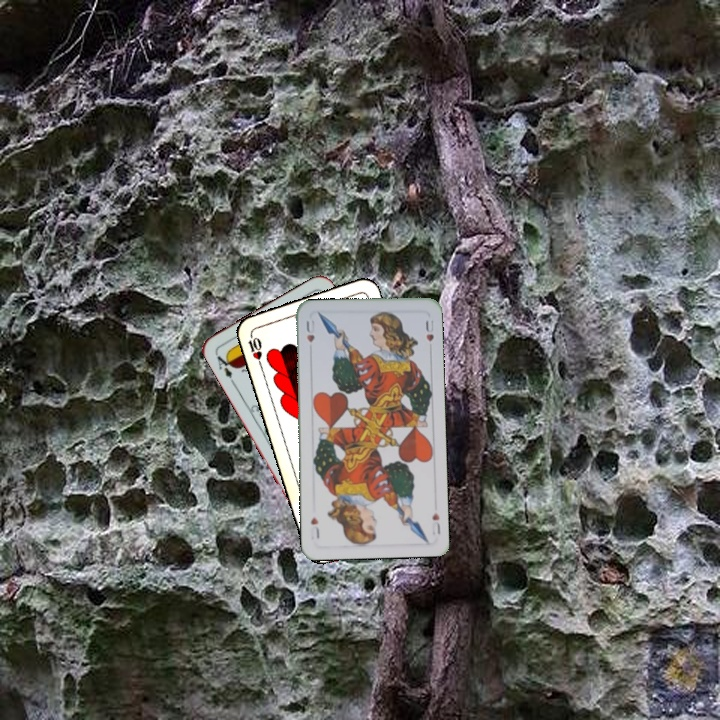EA: (212, 350, 237, 381)
H10: (244, 329, 265, 369)
HU: (302, 316, 317, 345), (428, 509, 443, 537)
